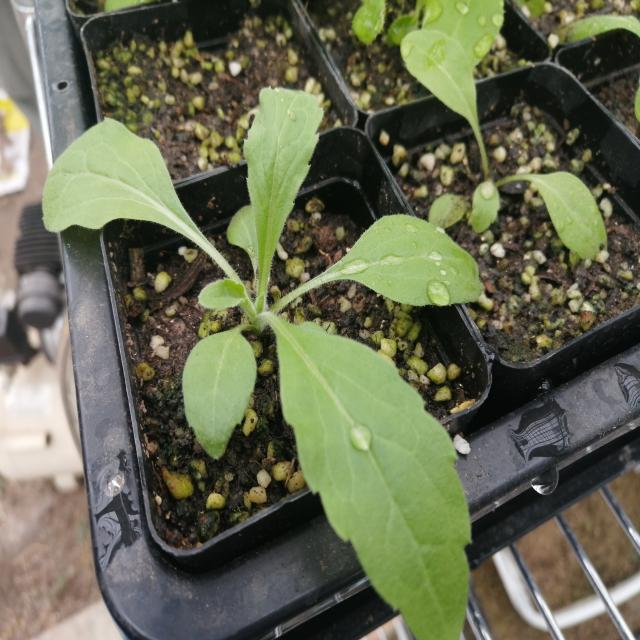horseweed: (33, 90, 483, 619)
